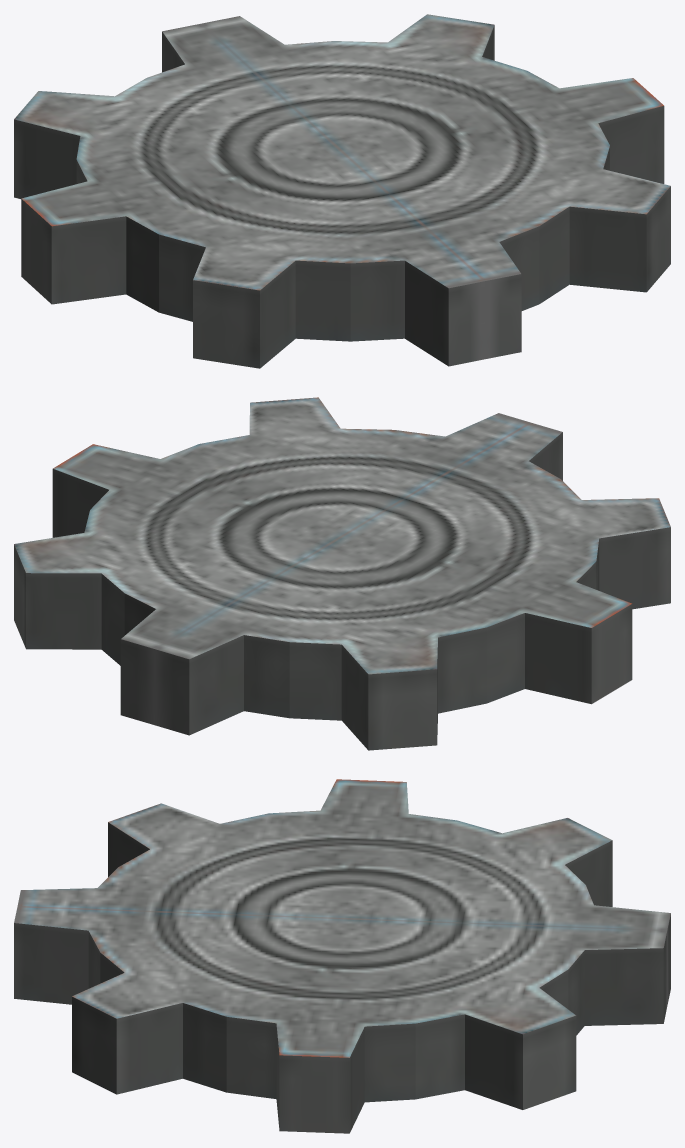
The model's file is FB_ShenLou_10.FBX.
3 renders of one model, top to bottom at view 1: azimuth 30°, elevation 25°; view 2: azimuth 150°, elevation 25°; view 3: azimuth 270°, elevation 25°, orthographic. The views are drawn at different scales.
Parts seen in each view (by area): view 1: Object06; view 2: Object06; view 3: Object06.
Part boxes in pixels (x1,y1,x2,y2): Object06: [14, 14, 670, 368]; Object06: [14, 397, 670, 750]; Object06: [14, 779, 670, 1133].
Bounding box in the file's own units: 3.7 × 0.47 × 3.69.
